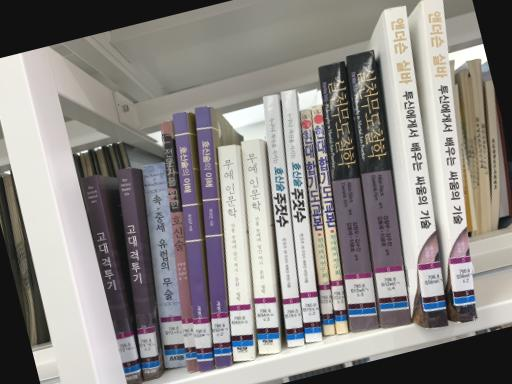book-spine: (384, 5, 448, 328), (345, 50, 411, 326), (423, 0, 477, 322), (318, 61, 379, 331), (78, 174, 143, 384), (171, 111, 215, 373), (263, 94, 304, 347), (281, 89, 321, 342), (160, 121, 199, 372), (115, 168, 161, 380), (194, 106, 230, 367), (141, 162, 185, 368), (311, 105, 348, 334), (240, 139, 279, 353), (217, 144, 254, 361), (300, 109, 335, 335)
